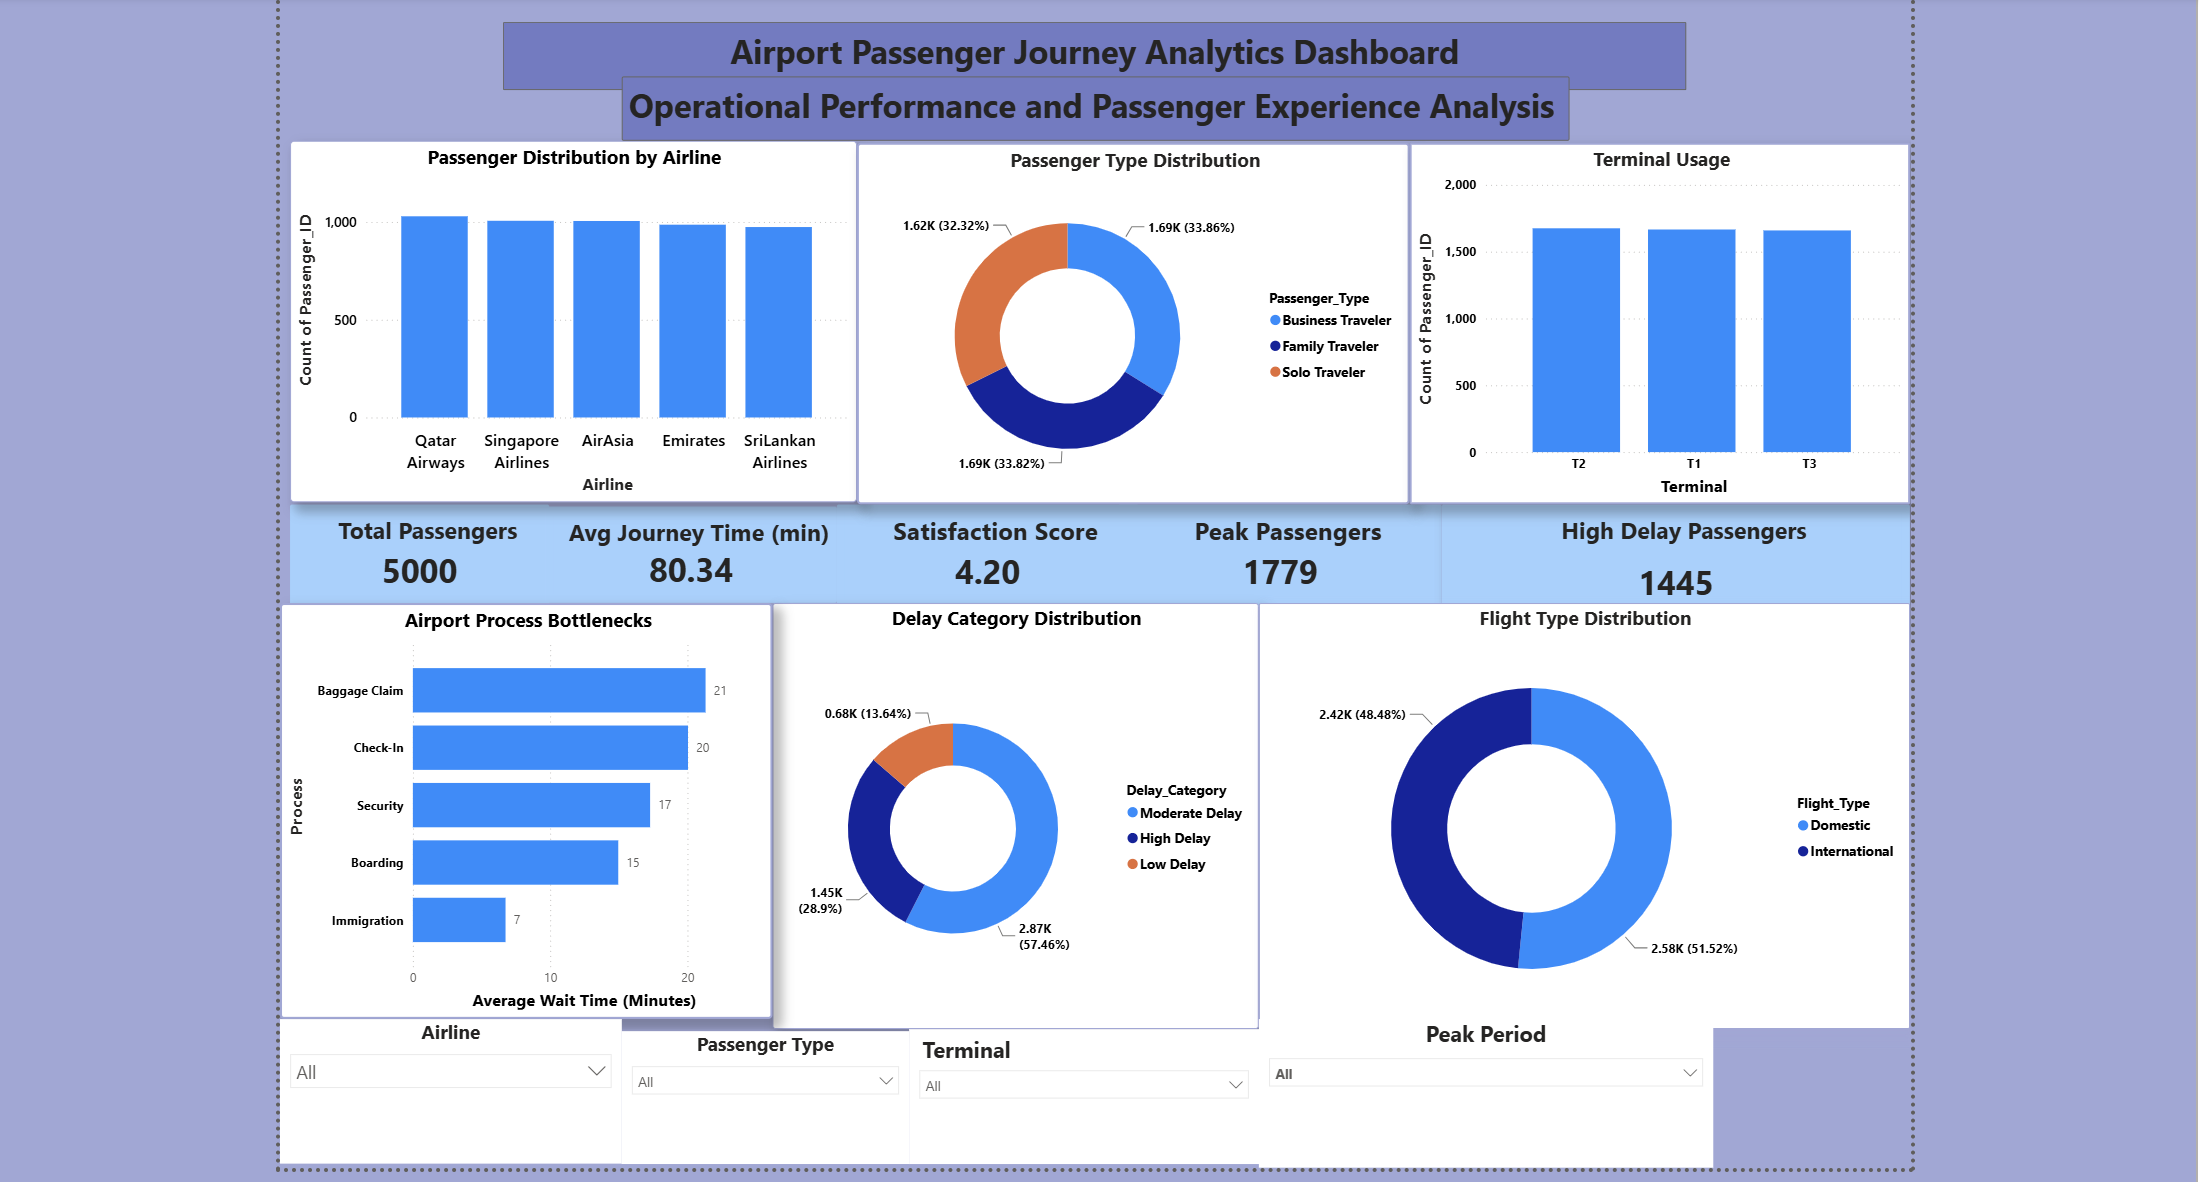

The page's visual inventory and layout, read from the dashboard file:
{"tool":"powerbi","page":{"name":"Executive Dashboard","canvas":[1600,1150],"ordinal":0},"visuals":[{"type":"card","title":"Total Passengers","fields":{"Values":["CountNonNull(airport_passenger_journey_cleaned.Passenger_ID)"]},"box":[9.9,498.9,254.4,100.6],"z":0},{"type":"card","title":"Avg Journey Time (min)","fields":{"Values":["Avg(airport_passenger_journey_cleaned.Total_Journey_Time)"]},"box":[260.3,500.8,285.9,94.6],"z":1000},{"type":"card","title":"Satisfaction Score","fields":{"Values":["Avg(airport_passenger_journey_cleaned.Satisfaction_Score)"]},"box":[546.2,498.9,295.8,100.6],"z":2000},{"type":"card","title":"Peak Passengers","fields":{"Values":["CountNonNull(airport_passenger_journey_cleaned.Peak_Period)"]},"box":[822.2,498.9,317.5,100.6],"z":3000},{"type":"card","title":"High Delay Passengers","fields":{"Values":["CountNonNull(airport_passenger_journey_cleaned.Delay_Category)"]},"box":[1139.7,498.9,459.4,124.2],"z":4000},{"type":"clusteredColumnChart","title":"Passenger Distribution by Airline","fields":{"Category":["airport_passenger_journey_cleaned.Airline"],"Y":["CountNonNull(airport_passenger_journey_cleaned.Passenger_ID)"]},"box":[9.9,142,556.1,354.9],"z":5000},{"type":"donutChart","title":"Delay Category Distribution","fields":{"Category":["airport_passenger_journey_cleaned.Delay_Category"],"Y":["CountNonNull(airport_passenger_journey_cleaned.Passenger_ID)"]},"box":[483.1,595.5,477.2,418],"z":6000},{"type":"donutChart","title":"Passenger Type Distribution","fields":{"Category":["airport_passenger_journey_cleaned.Passenger_Type"],"Y":["CountNonNull(airport_passenger_journey_cleaned.Passenger_ID)"]},"box":[565.9,143.9,542.2,354.9],"z":7000},{"type":"clusteredBarChart","title":"Airport Process Bottlenecks","fields":{"Category":["Wait_Time_Analysis.Process"],"Y":["Sum(Wait_Time_Analysis.Average Wait Time)"]},"box":[0,595.5,483.1,408.2],"z":8000},{"type":"clusteredColumnChart","title":"Terminal Usage","fields":{"Category":["airport_passenger_journey_cleaned.Terminal"],"Y":["CountNonNull(airport_passenger_journey_cleaned.Passenger_ID)"]},"box":[1108.2,143.9,491,354.9],"z":9000},{"type":"donutChart","title":"Flight Type Distribution","fields":{"Category":["airport_passenger_journey_cleaned.Flight_Type"],"Y":["CountNonNull(airport_passenger_journey_cleaned.Passenger_ID)"]},"box":[960.3,595.5,638.9,418],"z":10000},{"type":"textbox","box":[219.7,24.8,1160.6,66.8],"z":11000},{"type":"textbox","box":[335.2,78.3,929.7,63],"z":12000},{"type":"slicer","title":"Airline","fields":{"Values":["airport_passenger_journey_cleaned.Airline"]},"box":[0,1003.7,335.2,142],"z":13000},{"type":"slicer","title":"Peak Period","fields":{"Values":["airport_passenger_journey_cleaned.Peak_Period"]},"box":[960.3,1003.7,445.6,145.9],"z":14000},{"type":"slicer","title":"Passenger Type","fields":{"Values":["airport_passenger_journey_cleaned.Passenger_Type"]},"box":[335.2,1015.5,282,130.1],"z":15000},{"type":"slicer","fields":{"Values":["airport_passenger_journey_cleaned.Terminal"]},"box":[617.2,1013.5,343.1,132.1],"z":16000}]}

Visuals, with their boxes in screenshot pixels (x1, y1, x2, y2):
"Total Passengers" card: [291,505,548,606]
"Avg Journey Time (min)" card: [544,507,833,602]
"Satisfaction Score" card: [833,505,1132,606]
"Peak Passengers" card: [1112,505,1434,606]
"High Delay Passengers" card: [1434,505,1898,630]
"Passenger Distribution by Airline" clusteredColumnChart: [291,144,853,503]
"Delay Category Distribution" donutChart: [769,602,1252,1025]
"Passenger Type Distribution" donutChart: [853,146,1402,505]
"Airport Process Bottlenecks" clusteredBarChart: [281,602,769,1015]
"Terminal Usage" clusteredColumnChart: [1402,146,1898,505]
"Flight Type Distribution" donutChart: [1252,602,1898,1025]
textbox: [503,25,1677,93]
textbox: [620,79,1560,143]
"Airline" slicer: [281,1015,620,1159]
"Peak Period" slicer: [1252,1015,1703,1163]
"Passenger Type" slicer: [620,1027,905,1159]
slicer - airport_passenger_journey_cleaned.Terminal: [905,1025,1252,1159]
